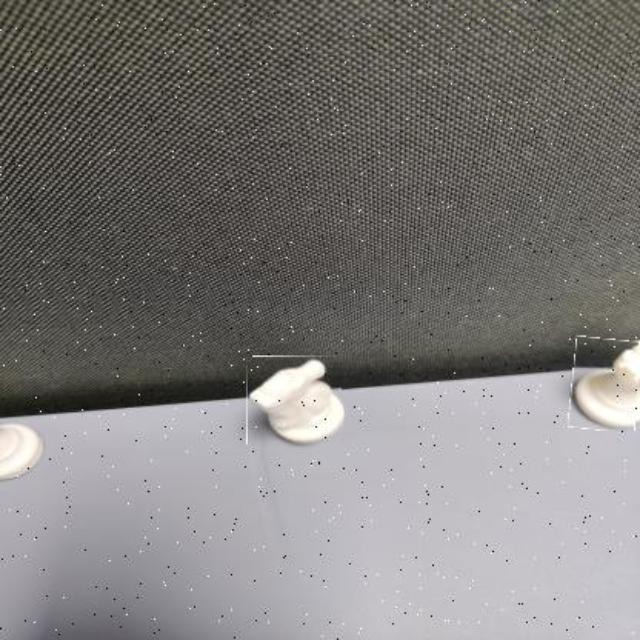white-knight: (247, 358, 343, 446)
white-rook: (569, 338, 638, 432)
